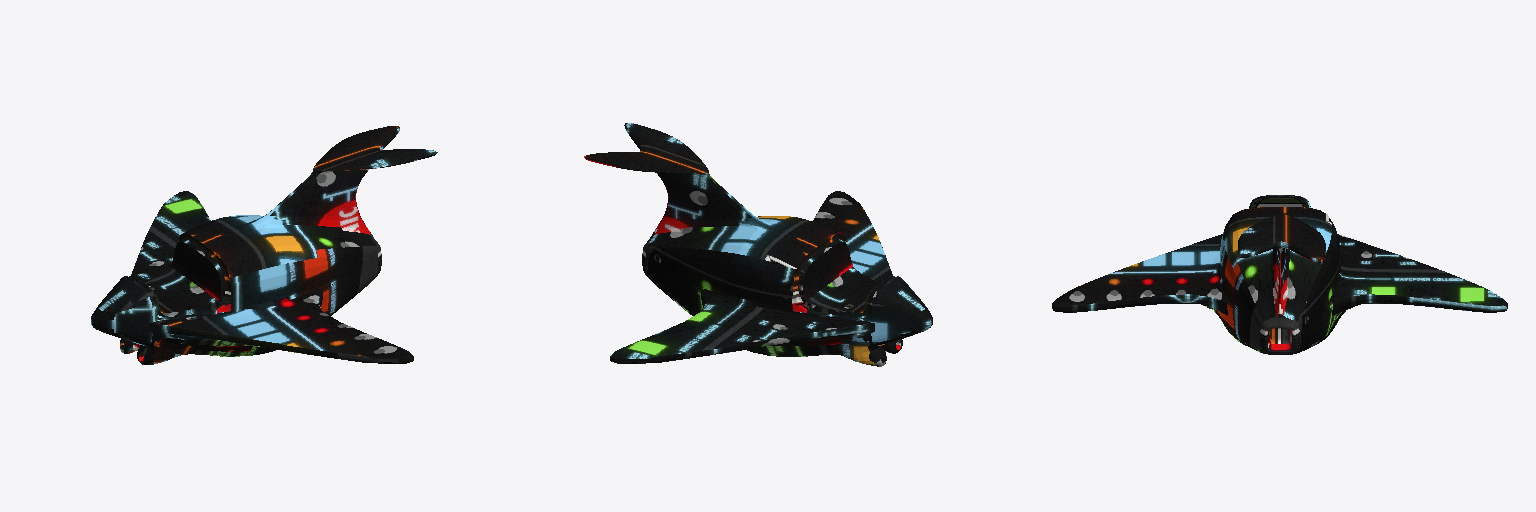
3 views of the same model, side by side, from view 1: azimuth 30°, elevation 25°; view 2: azimuth 150°, elevation 25°; view 3: azimuth 270°, elevation 25° (orthographic).
Visible parts, largest first — view 1: polySurface3; view 2: polySurface3; view 3: polySurface3.
Boxes of the visible parts, x1=… form: polySurface3: x1=91, y1=126, x2=437, y2=364; polySurface3: x1=584, y1=123, x2=932, y2=366; polySurface3: x1=1052, y1=195, x2=1507, y2=354.
Bounding box in the file's own units: 11.6 × 5.49 × 14.
Materials: 6 (1 with a texture image).